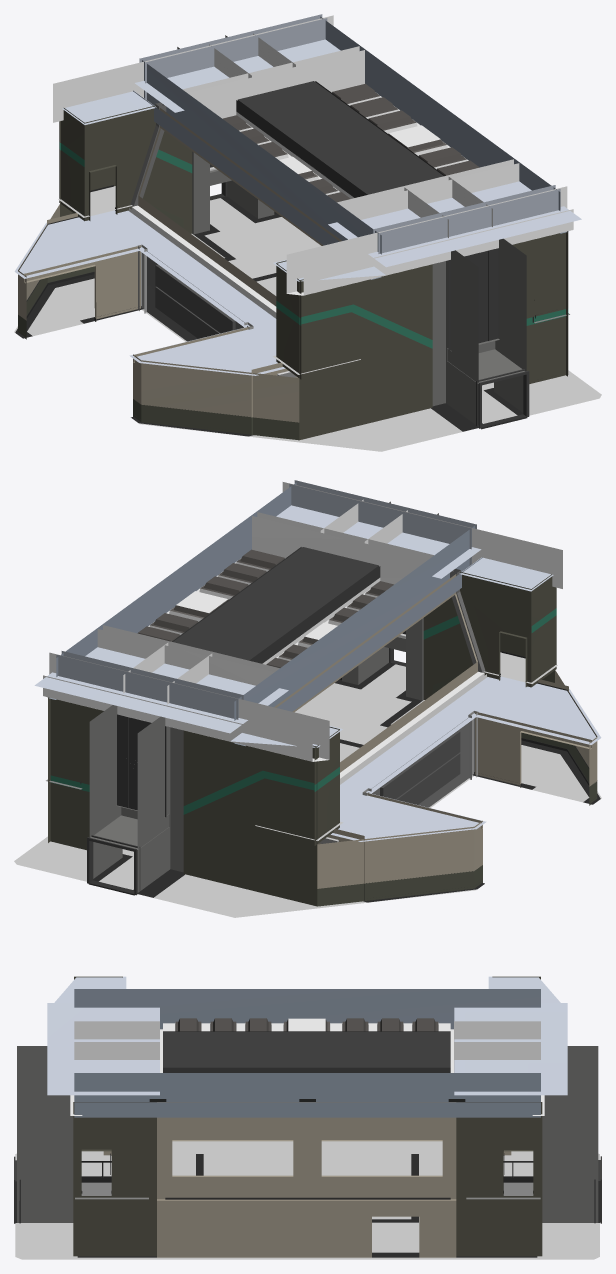
The model's file is SM_H_Building_Tide_MedicalRoom_21_ATLAS.fbx.
3 views of the same model, one above another, from view 1: azimuth 30°, elevation 25°; view 2: azimuth 150°, elevation 25°; view 3: azimuth 270°, elevation 25° (orthographic). The views are drawn at different scales.
Parts seen in each view (by area): view 1: SM_H_Building_Tide_MedicalRoom_21_ATLAS; view 2: SM_H_Building_Tide_MedicalRoom_21_ATLAS; view 3: SM_H_Building_Tide_MedicalRoom_21_ATLAS.
Part boxes in pixels (left/top/right/bottom): SM_H_Building_Tide_MedicalRoom_21_ATLAS: left=14, top=14, right=601, bottom=451; SM_H_Building_Tide_MedicalRoom_21_ATLAS: left=14, top=480, right=601, bottom=917; SM_H_Building_Tide_MedicalRoom_21_ATLAS: left=14, top=976, right=601, bottom=1259.
Size of the model in its own units: 2279 by 3194 by 1095.
